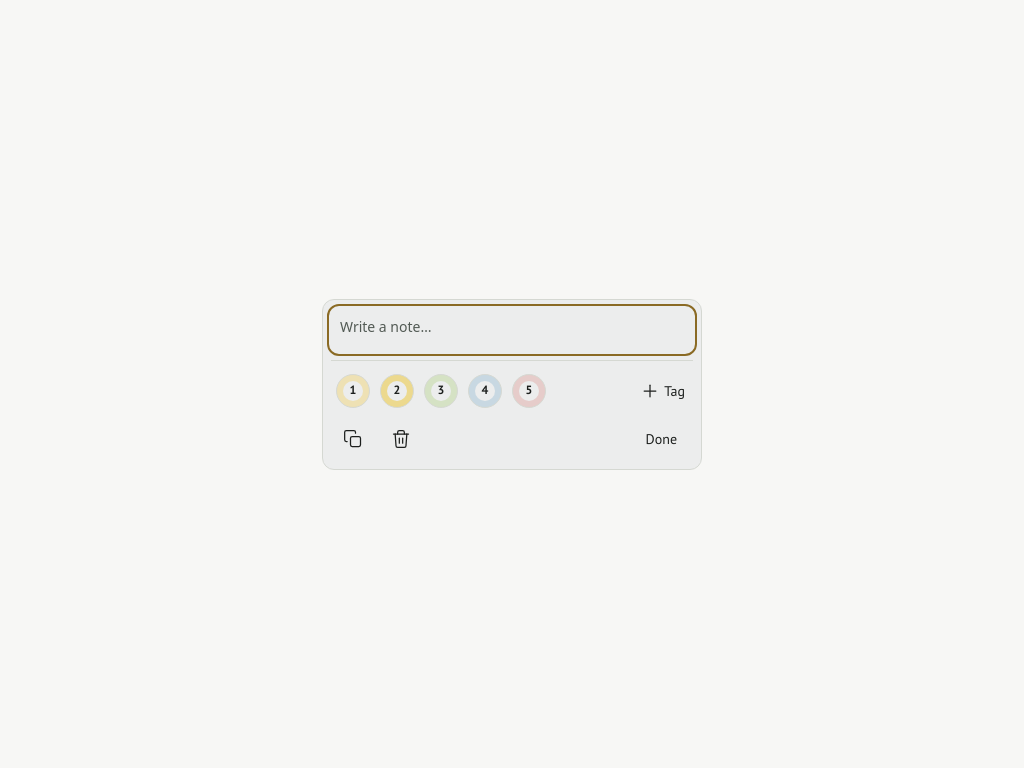
HighlightTagsDialog — disclosed tag editing › case matching: typing ESSAYS routes to the stored casing (Q7A)
Later steps or results of the test are not shown.
Click the button with aria-label "Add tag": {"x": 663, "y": 390} [632, 368, 693, 412]
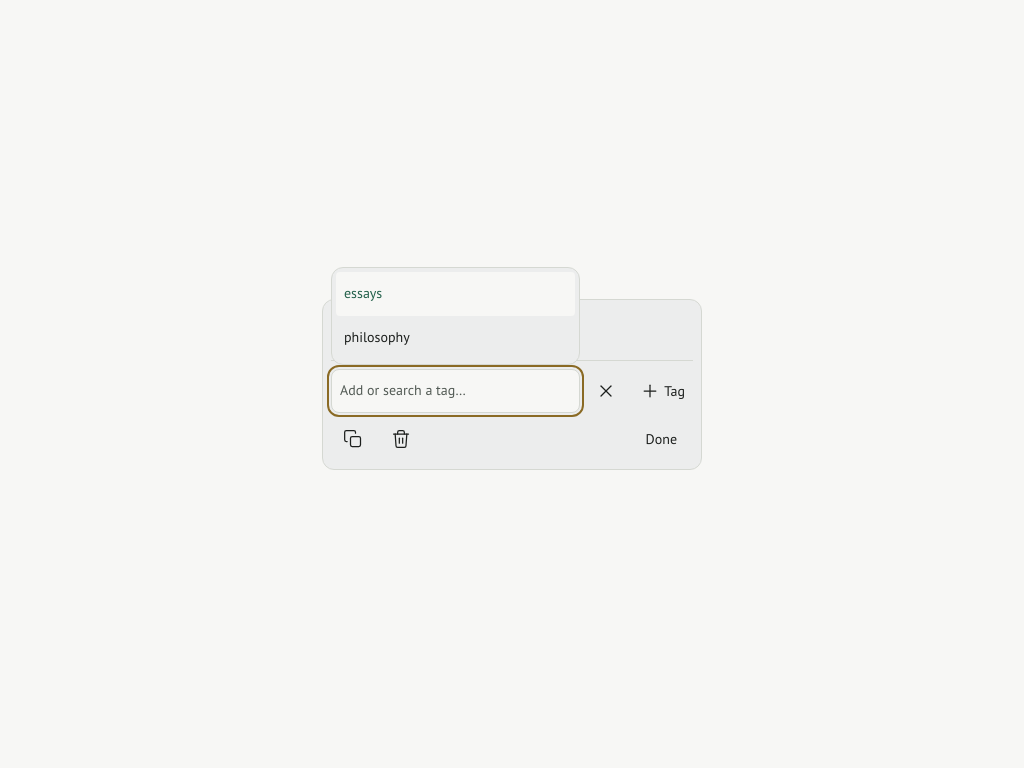
In the dropdown with placeholder "Add or search a tag…": {"x": 456, "y": 390} [331, 368, 580, 412], type "ESSAYS"
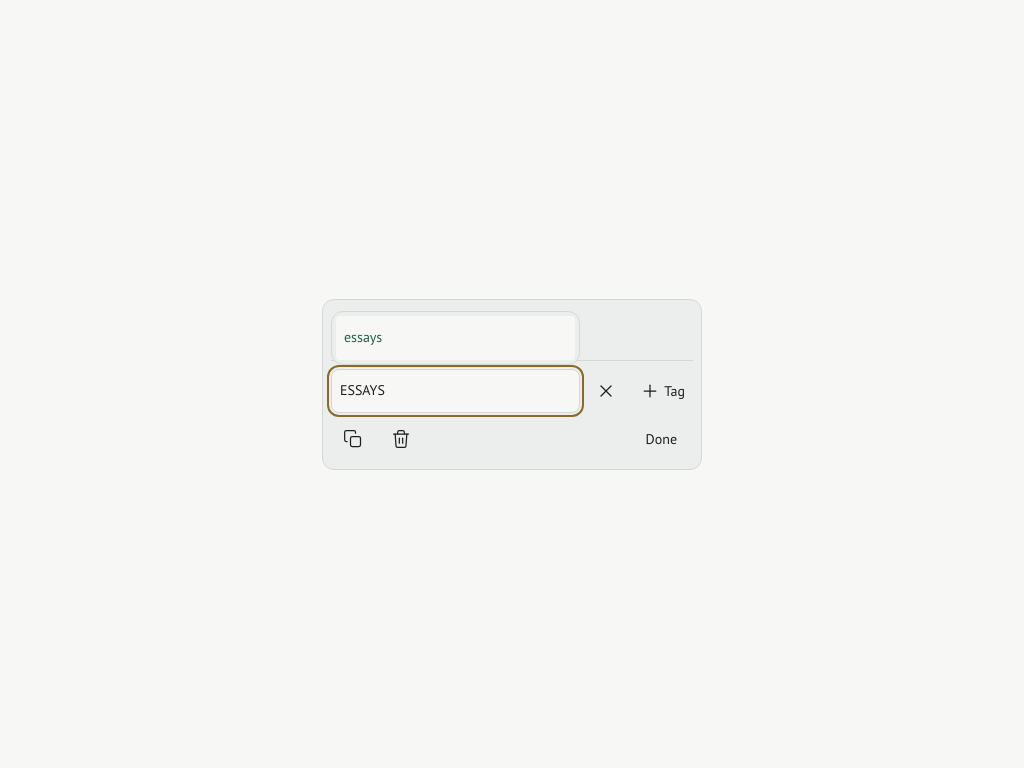
Now the options read "essays", in this order, box [336, 316, 575, 360]
